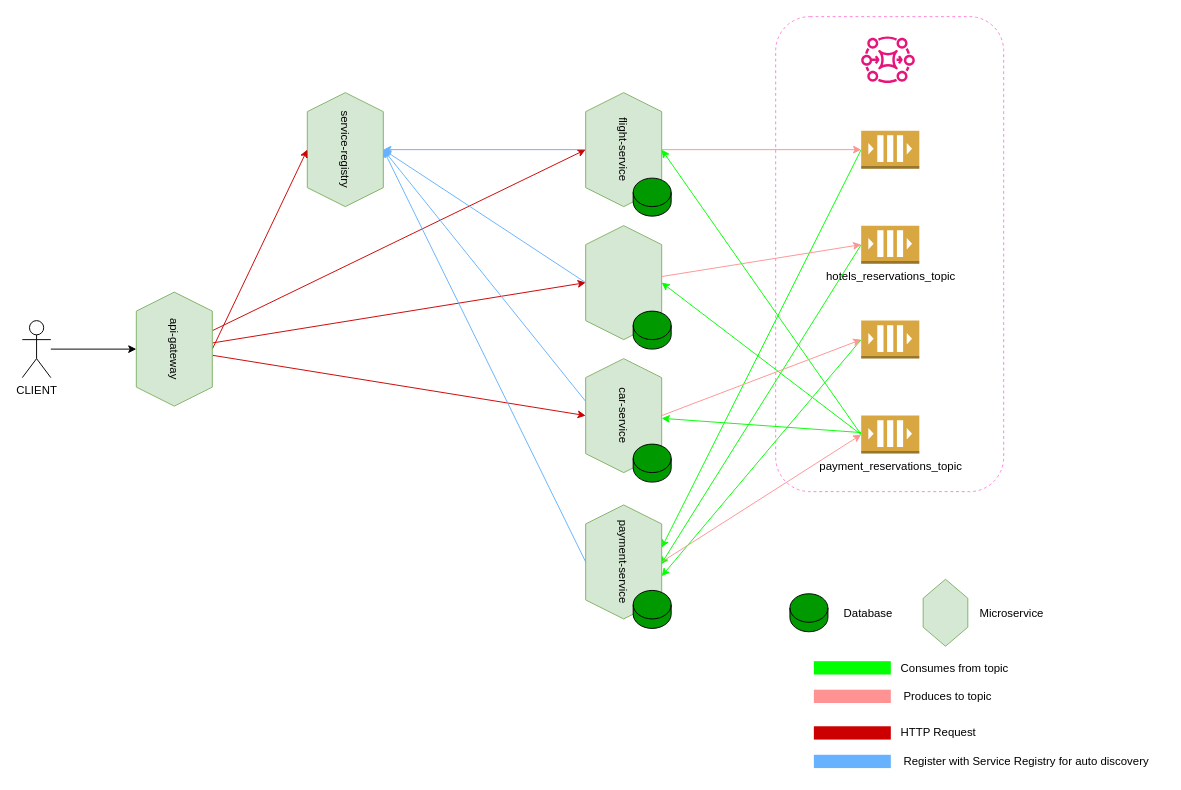
The diagram is 1181 pixels wide and 790 high, and some of its shapes have lost their labels. Each missing label, with the box of its shape:
cars_reservations_topic: (860, 320, 919, 359)
flights_reservations_topic: (860, 130, 919, 169)
hotel-service: (585, 225, 662, 340)
RabbitMQ / Kafka: (861, 35, 914, 83)
